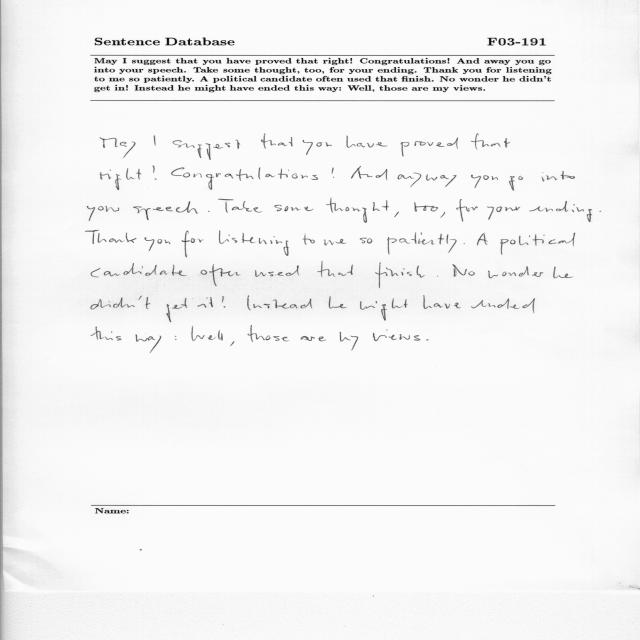word: (171, 167, 318, 190), (219, 230, 289, 256), (501, 233, 576, 255), (326, 198, 389, 223), (387, 233, 457, 255), (173, 140, 241, 160), (91, 263, 187, 277), (529, 201, 592, 222), (375, 262, 425, 288), (133, 201, 198, 220), (401, 138, 459, 157), (360, 299, 408, 321), (247, 296, 312, 311), (471, 298, 535, 313), (100, 168, 142, 190), (201, 264, 241, 286), (398, 173, 457, 187), (91, 296, 150, 309), (100, 137, 136, 158), (488, 266, 543, 279), (86, 230, 137, 244), (248, 325, 290, 342), (471, 134, 510, 150), (218, 199, 262, 213), (182, 231, 204, 257), (317, 262, 353, 277), (423, 295, 461, 309), (255, 265, 299, 277), (373, 330, 420, 341), (456, 199, 478, 222), (351, 166, 387, 180), (166, 298, 187, 322), (136, 334, 162, 353), (347, 136, 388, 148), (261, 134, 293, 149), (88, 206, 120, 221), (191, 326, 223, 341), (487, 206, 520, 220), (303, 140, 332, 155), (91, 327, 121, 341), (471, 174, 498, 188), (145, 237, 171, 251), (542, 171, 575, 182), (340, 332, 359, 351), (452, 264, 475, 277), (414, 202, 438, 212), (275, 205, 314, 211), (329, 296, 347, 309), (553, 267, 573, 278), (509, 176, 523, 191), (198, 297, 213, 307), (303, 234, 315, 245), (324, 239, 346, 245), (477, 233, 487, 246), (301, 336, 326, 341), (360, 238, 373, 244), (152, 166, 157, 180), (222, 296, 226, 308), (394, 212, 399, 218), (440, 212, 445, 218), (154, 135, 156, 146), (332, 167, 334, 178), (230, 341, 234, 346), (175, 336, 177, 340), (426, 339, 429, 341), (208, 211, 210, 212), (599, 211, 601, 212), (463, 243, 465, 244), (437, 276, 438, 277)
